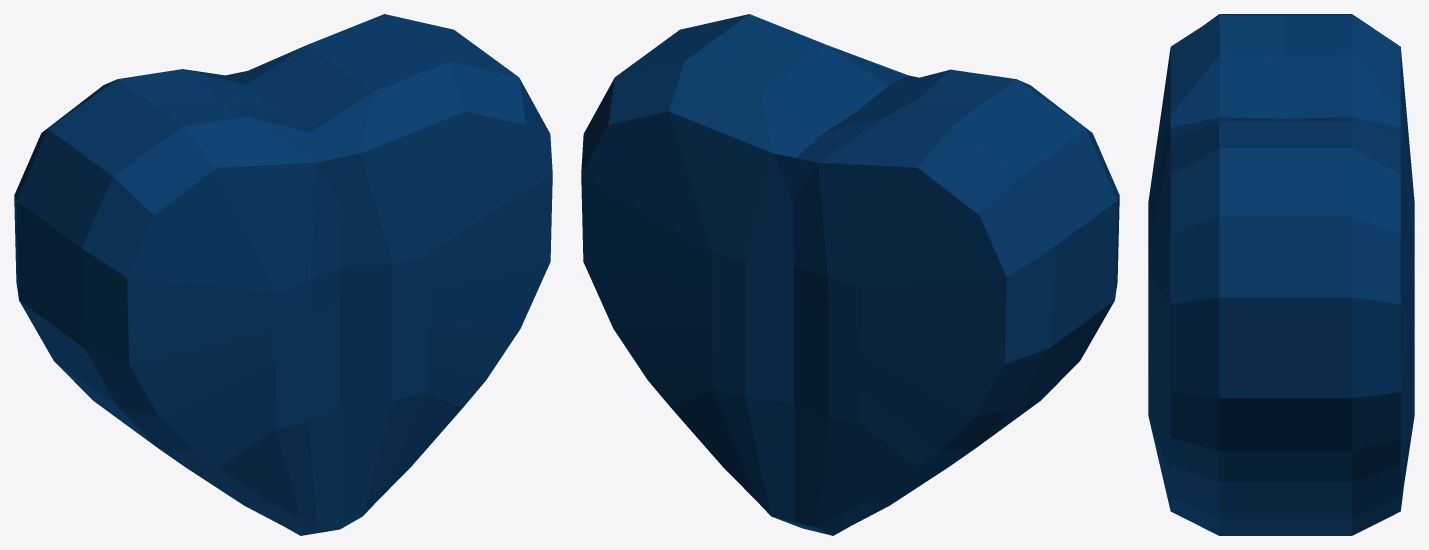
Rendered from coracao.glb.
The picture shows the model from 3 angles, left to right: view 1: azimuth 30°, elevation 25°; view 2: azimuth 150°, elevation 25°; view 3: azimuth 270°, elevation 25°; orthographic projection.
Visible parts, largest first — view 1: Cube; view 2: Cube; view 3: Cube.
Boxes of the visible parts, <box> form: Cube: <box>14,14,552,535</box>; Cube: <box>581,14,1119,535</box>; Cube: <box>1148,14,1414,535</box>.
Bounding box in the file's own units: 4.16 × 3.71 × 2.01.
1 material, 1 textured.
